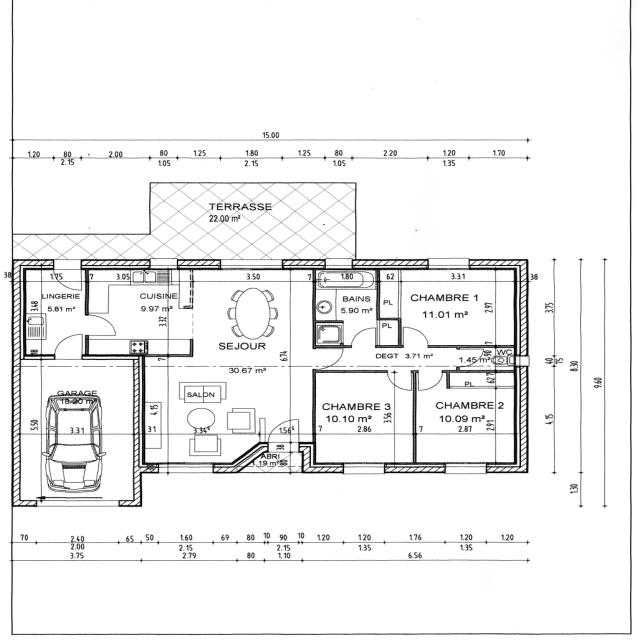door: (84, 312, 120, 338), (52, 332, 86, 359), (53, 268, 84, 292), (314, 346, 346, 369), (401, 324, 431, 348), (376, 319, 401, 347), (415, 368, 444, 392), (350, 324, 378, 348), (386, 369, 415, 392), (265, 419, 296, 438)
window: (214, 262, 290, 274), (158, 462, 217, 477), (39, 498, 120, 508), (340, 462, 390, 477), (443, 462, 491, 477), (427, 258, 472, 271)
zone: (86, 270, 314, 362), (140, 362, 314, 463), (17, 361, 138, 502), (384, 270, 518, 346), (413, 371, 522, 464), (316, 371, 413, 464), (23, 270, 87, 356), (314, 270, 379, 324), (260, 438, 310, 470), (455, 346, 510, 372), (375, 317, 401, 348)
